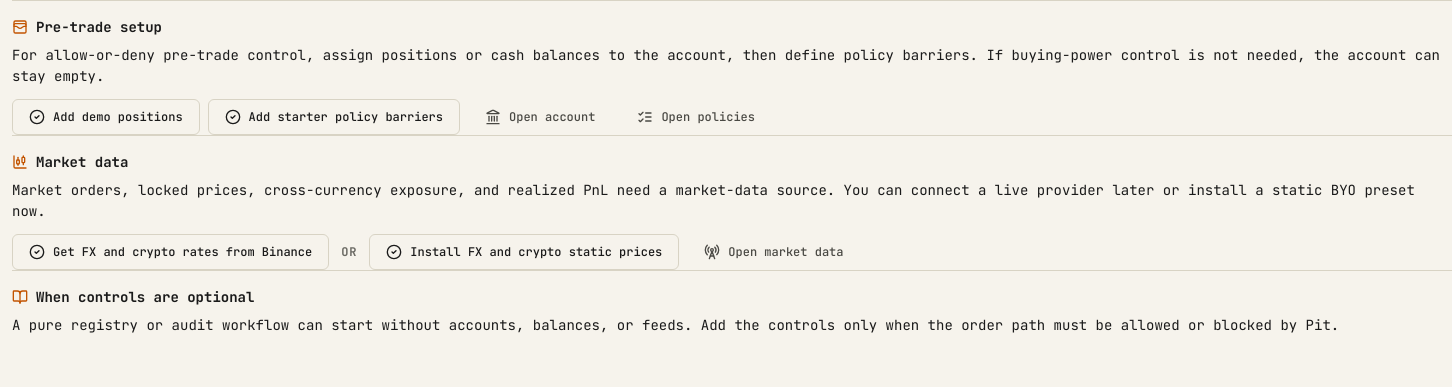
Test: WelcomeQuickStart while accounts are hidden › funds the default account without creating or describing one
This screenshot has width=1452, height=387.
Click the button "Add demo positions". click: (106, 117)
box: [12,99,200,135]
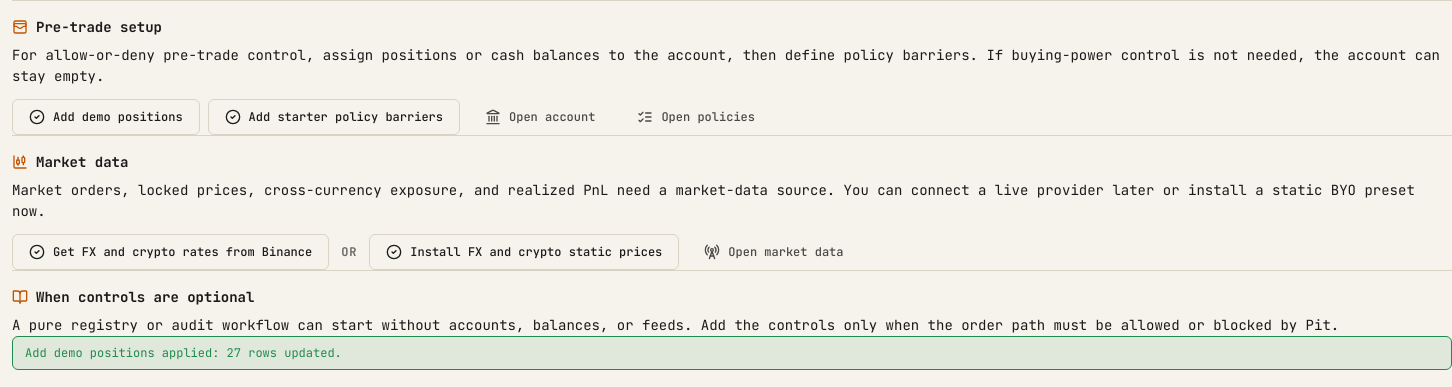
Now the text "Add demo positions applied: 27 rows updated." is shown, box [12,336,1451,370]
